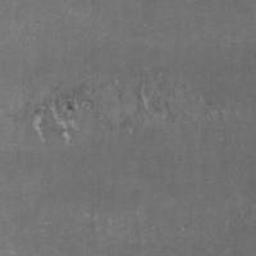Inclusion: (12, 63, 255, 148)
